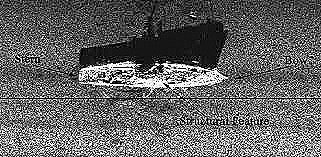ship: (77, 59, 228, 90)
